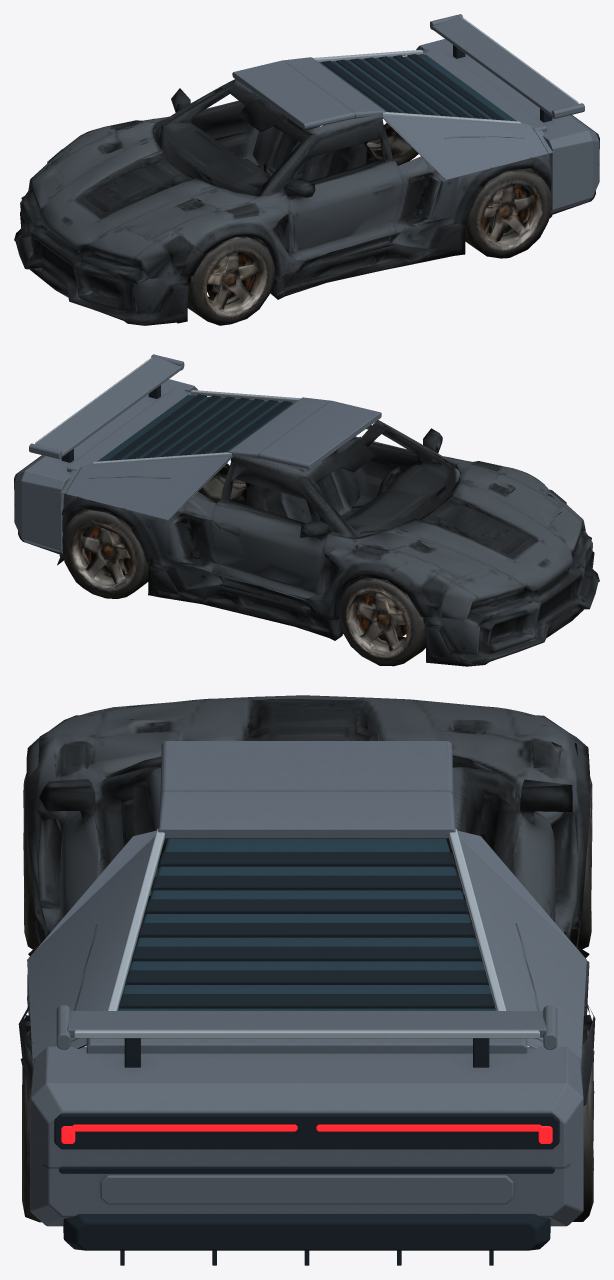
The model's file is cybercar1_rear_refined.glb.
The picture shows the model from 3 angles, top to bottom: view 1: azimuth 30°, elevation 25°; view 2: azimuth 150°, elevation 25°; view 3: azimuth 270°, elevation 25°; orthographic projection. The views are drawn at different scales.
Visible parts, largest first — view 1: car_part_00, rear_bodywork, car_part_01, car_part_13, wheel_rear_left, wheel_front_left, rear_aero, rear_glass, car_part_12, rear_trim, wheel_rear_right; view 2: car_part_00, rear_bodywork, car_part_01, car_part_08, wheel_rear_right, wheel_front_right, rear_aero, rear_glass, rear_trim, car_part_09, wheel_rear_left; view 3: rear_bodywork, rear_aero, car_part_00, rear_glass, car_part_01, rear_trim, rear_lights, car_part_13, car_part_08, wheel_rear_right, wheel_front_left, wheel_rear_left (+1 smaller).
Boxes of the visible parts, left/top/right/bottom form: car_part_00: left=14, top=116, right=552, bottom=325; rear_bodywork: left=232, top=14, right=599, bottom=213; car_part_01: left=153, top=79, right=397, bottom=197; car_part_13: left=287, top=166, right=423, bottom=260; wheel_rear_left: left=464, top=161, right=552, bottom=258; wheel_front_left: left=187, top=236, right=274, bottom=325; rear_aero: left=321, top=45, right=599, bottom=214; rear_glass: left=320, top=54, right=516, bottom=121; car_part_12: left=410, top=175, right=458, bottom=224; rear_trim: left=313, top=17, right=578, bottom=124; wheel_rear_right: left=364, top=123, right=418, bottom=165; car_part_00: left=57, top=456, right=599, bottom=666; rear_bodywork: left=14, top=354, right=381, bottom=553; car_part_01: left=217, top=420, right=460, bottom=537; car_part_08: left=191, top=497, right=326, bottom=598; wheel_rear_right: left=62, top=502, right=148, bottom=598; wheel_front_right: left=338, top=576, right=425, bottom=666; rear_aero: left=14, top=385, right=291, bottom=554; rear_glass: left=97, top=395, right=293, bottom=461; rear_trim: left=35, top=357, right=300, bottom=464; car_part_09: left=163, top=516, right=203, bottom=564; wheel_rear_left: left=198, top=463, right=249, bottom=505; rear_bodywork: left=27, top=741, right=586, bottom=1226; rear_aero: left=54, top=852, right=559, bottom=1265; car_part_00: left=18, top=695, right=595, bottom=1212; rear_glass: left=118, top=838, right=495, bottom=1010; car_part_01: left=39, top=766, right=572, bottom=945; rear_trim: left=74, top=828, right=539, bottom=1038; rear_lights: left=61, top=1124, right=552, bottom=1143; car_part_13: left=42, top=811, right=107, bottom=934; car_part_08: left=513, top=811, right=563, bottom=932; wheel_rear_right: left=572, top=1029, right=594, bottom=1221; wheel_front_left: left=23, top=773, right=44, bottom=949; wheel_rear_left: left=22, top=1030, right=41, bottom=1222.
Bounding box in the file's own units: 0.9848 × 0.292 × 0.5.
7 materials, 7 textured.
